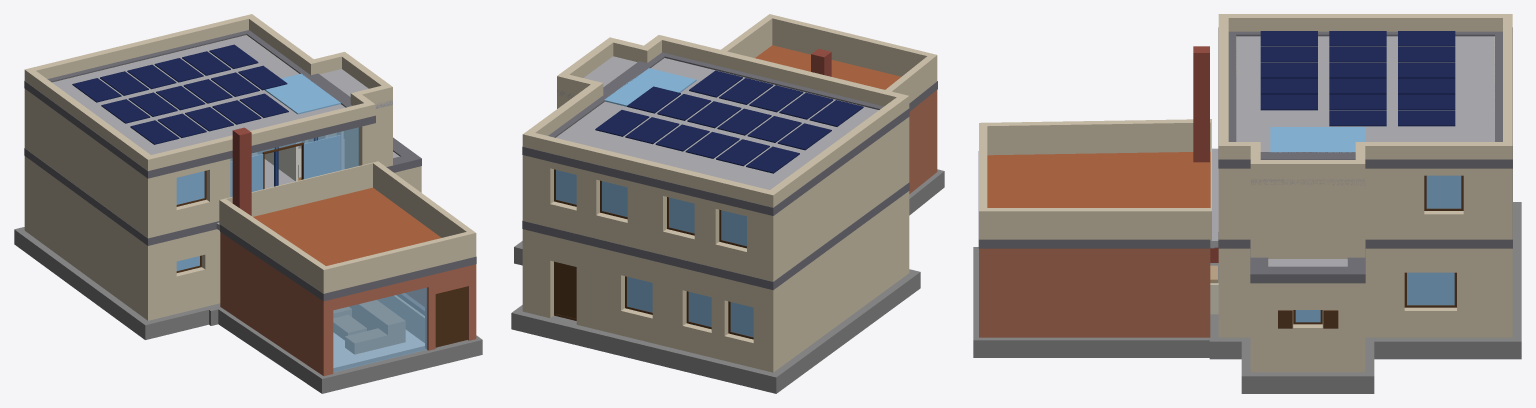
The model's file is casa_v7.glb.
3 renders of one model, left to right at view 1: azimuth 30°, elevation 25°; view 2: azimuth 150°, elevation 25°; view 3: azimuth 270°, elevation 25°, orthographic. The views are drawn at different scales.
Parts seen in each view (by area): view 1: muros_PB, muros_PA, parapeto_terraza, muros_salon, parapeto_cubierta, paneles_solares, cimentacion, solado_terraza, forjado_cubierta, cristal_PB, zuncho_cubierta, zuncho_forjado (+10 smaller); view 2: muros_PB, muros_PA, parapeto_cubierta, paneles_solares, cimentacion, forjado_cubierta, parapeto_terraza, zuncho_cubierta, zuncho_forjado, vidrios_PA, muros_salon, vidrios_PB (+6 smaller); view 3: muros_PB, muros_PA, muros_salon, paneles_solares, parapeto_terraza, cimentacion, parapeto_cubierta, forjado_cubierta, solado_terraza, zuncho_forjado, zuncho_cubierta, lucernario (+5 smaller).
Part boxes in pixels (x1=…): muros_PB: x1=24, y1=152, x2=421, y2=320; muros_PA: x1=24, y1=35, x2=392, y2=238; parapeto_terraza: x1=219, y1=161, x2=476, y2=293; muros_salon: x1=220, y1=232, x2=476, y2=375; parapeto_cubierta: x1=24, y1=14, x2=392, y2=170; paneles_solares: x1=72, y1=44, x2=288, y2=144; cimentacion: x1=14, y1=227, x2=482, y2=393; solado_terraza: x1=253, y1=187, x2=441, y2=265; forjado_cubierta: x1=52, y1=35, x2=392, y2=154; cristal_PB: x1=333, y1=287, x2=427, y2=372; zuncho_cubierta: x1=24, y1=30, x2=375, y2=178; zuncho_forjado: x1=24, y1=137, x2=476, y2=301; muros_PB: x1=522, y1=191, x2=909, y2=372; muros_PA: x1=522, y1=58, x2=909, y2=281; parapeto_cubierta: x1=522, y1=35, x2=909, y2=207; paneles_solares: x1=595, y1=70, x2=863, y2=173; cimentacion: x1=511, y1=169, x2=944, y2=393; forjado_cubierta: x1=556, y1=56, x2=878, y2=189; parapeto_terraza: x1=721, y1=14, x2=937, y2=103; zuncho_cubierta: x1=522, y1=52, x2=909, y2=215; zuncho_forjado: x1=522, y1=81, x2=937, y2=290; vidrios_PA: x1=556, y1=170, x2=746, y2=246; muros_salon: x1=909, y1=90, x2=937, y2=193; vidrios_PB: x1=627, y1=276, x2=753, y2=337; muros_PB: x1=1218, y1=248, x2=1512, y2=372; muros_PA: x1=1218, y1=36, x2=1512, y2=258; muros_salon: x1=979, y1=248, x2=1210, y2=337; paneles_solares: x1=1260, y1=31, x2=1455, y2=126; parapeto_terraza: x1=979, y1=119, x2=1211, y2=240; cimentacion: x1=973, y1=202, x2=1521, y2=393; parapeto_cubierta: x1=1218, y1=14, x2=1512, y2=178; forjado_cubierta: x1=1236, y1=36, x2=1494, y2=185; solado_terraza: x1=987, y1=151, x2=1210, y2=207; zuncho_forjado: x1=978, y1=151, x2=1512, y2=283; zuncho_cubierta: x1=1218, y1=27, x2=1512, y2=168; lucernario: x1=1270, y1=127, x2=1365, y2=152.
Size of the model in its own units: 12.6 by 7.56 by 16.75.
